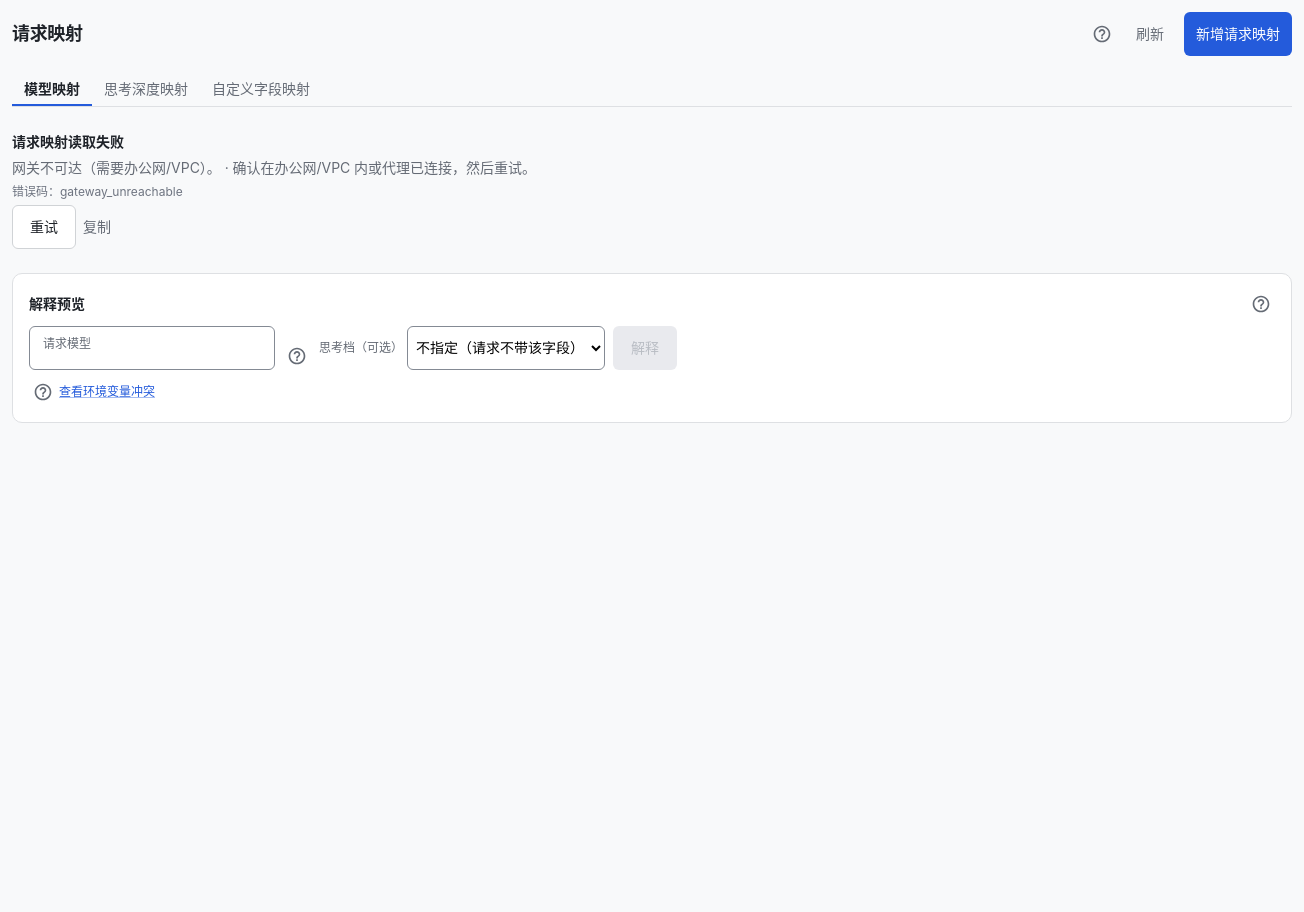
Scenario: RouterPage（UC-023 / UC-028 / UC-029 / UC-036） › 请求映射列表读取失败保留错误与重试；重试后恢复请求表
Check: the text "请求映射读取失败" is shown, box [12,131,124,153]
Check: the text "错误码：gateway_unreachable" is shown, box [12,183,183,201]
Click the button "重试" at (44,227), box [12,205,76,249]
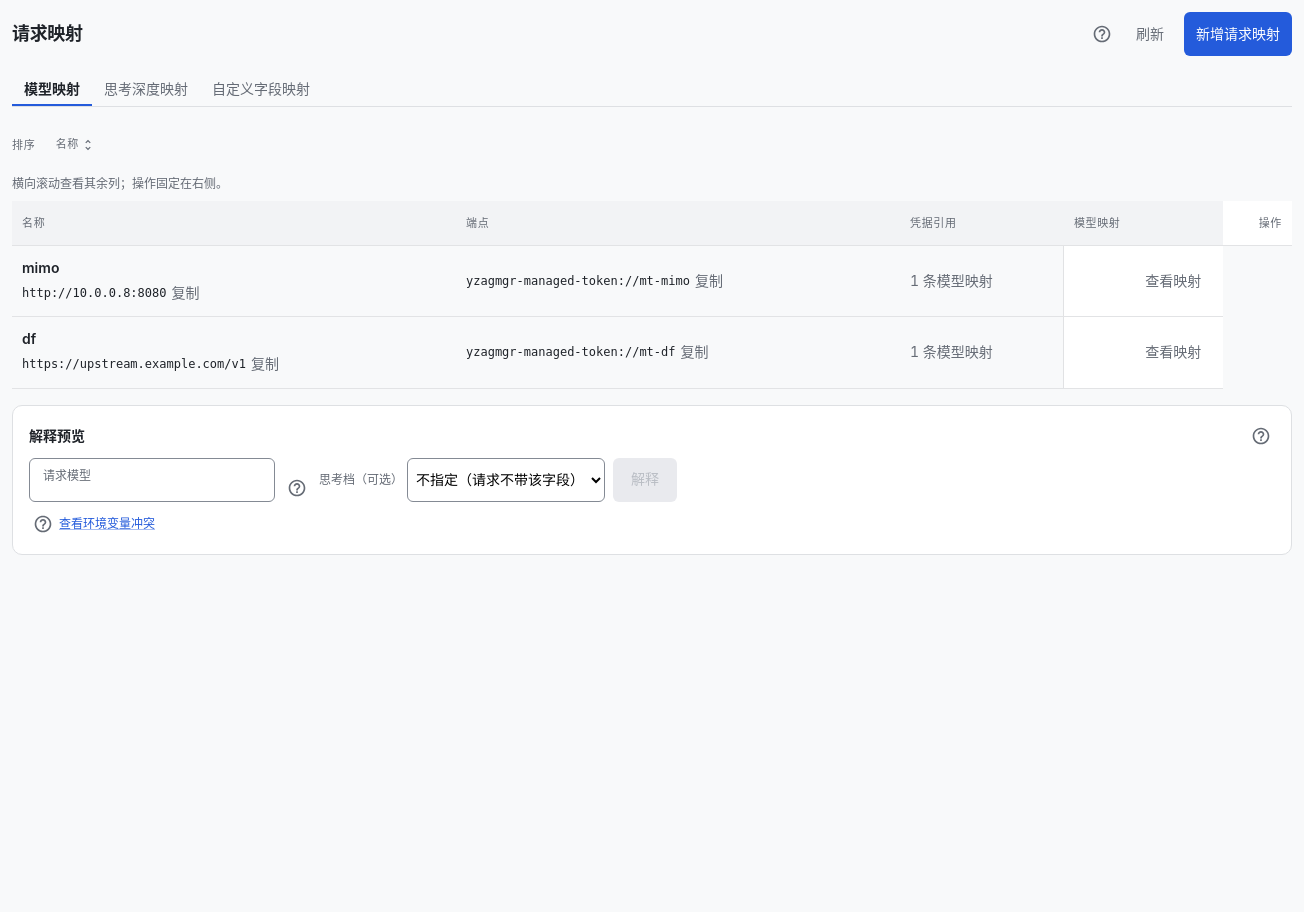
Check: the table named "请求映射表" is shown, box [12,201,1292,388]
Click the button "查看映射" in the row of "http://10.0.0.8:8080" at (1173,281), box [1133,259,1213,303]
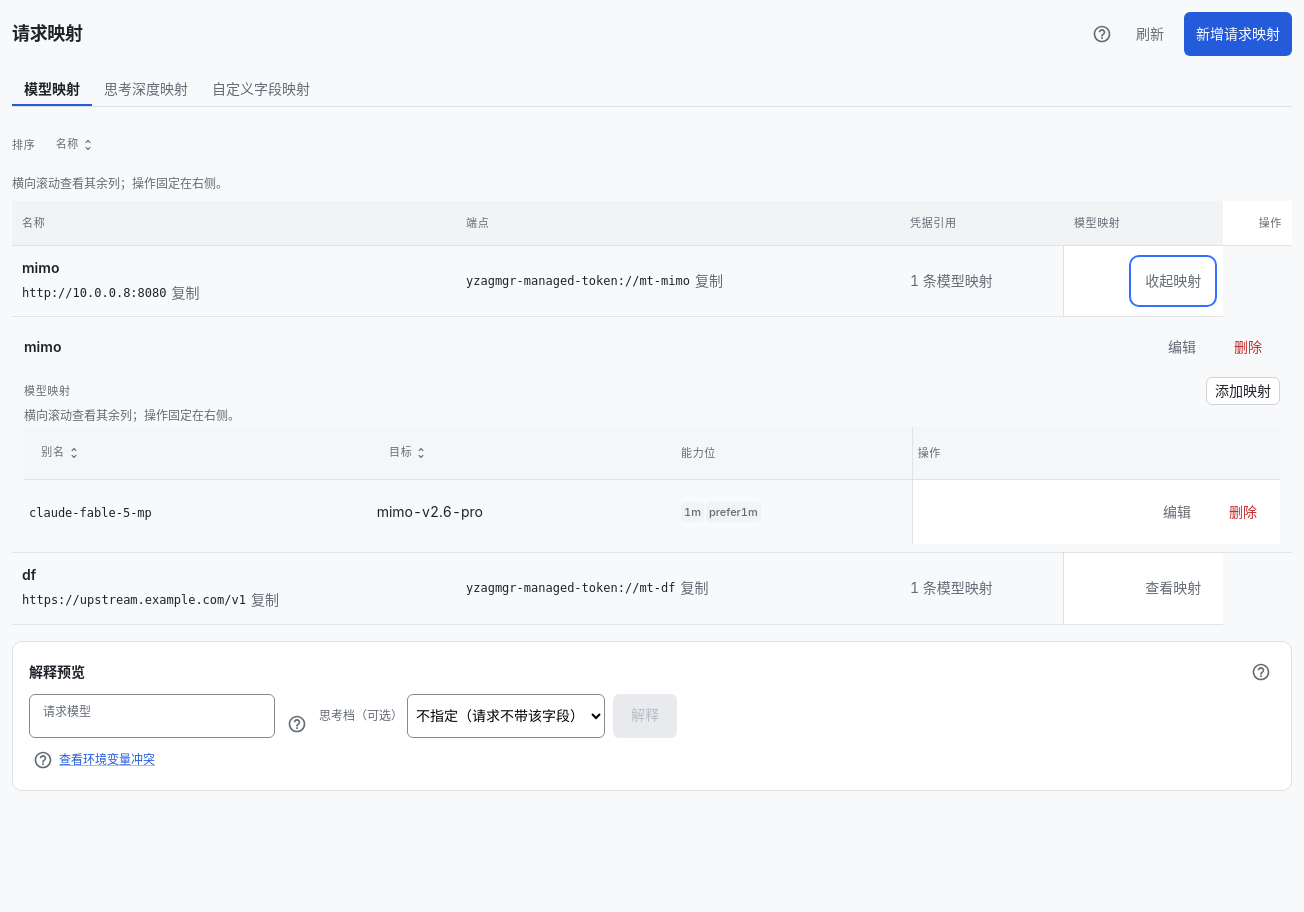
Check: the text "claude-fable-5-mp" is shown, box [29,506,152,520]
